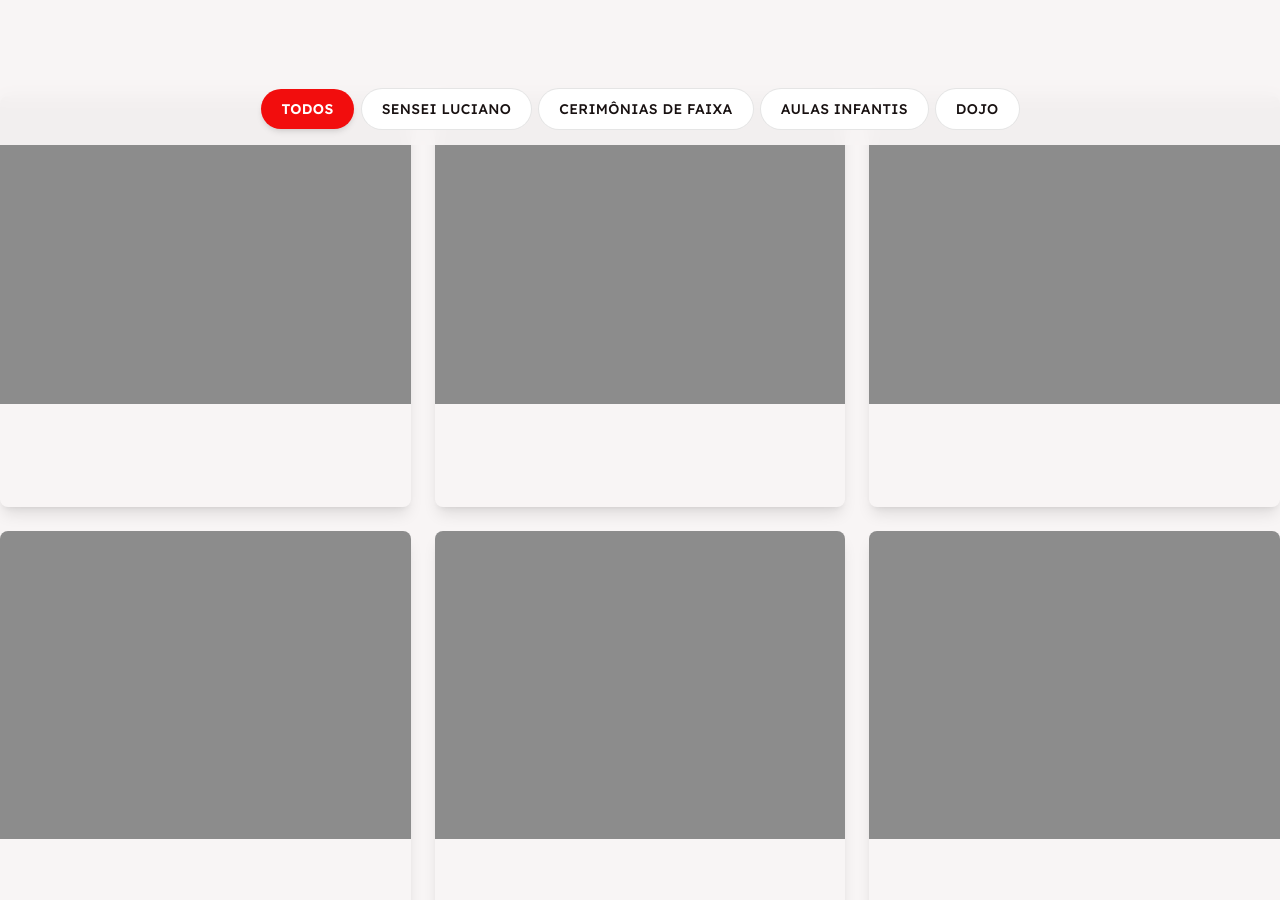
Scenario: GalleryMasonryGrid › after clicking Aulas Infantis, only items with that category are visible
Click the button with aria-label "mostrar aulas infantis". click: (844,109)
box: [761,89,928,129]
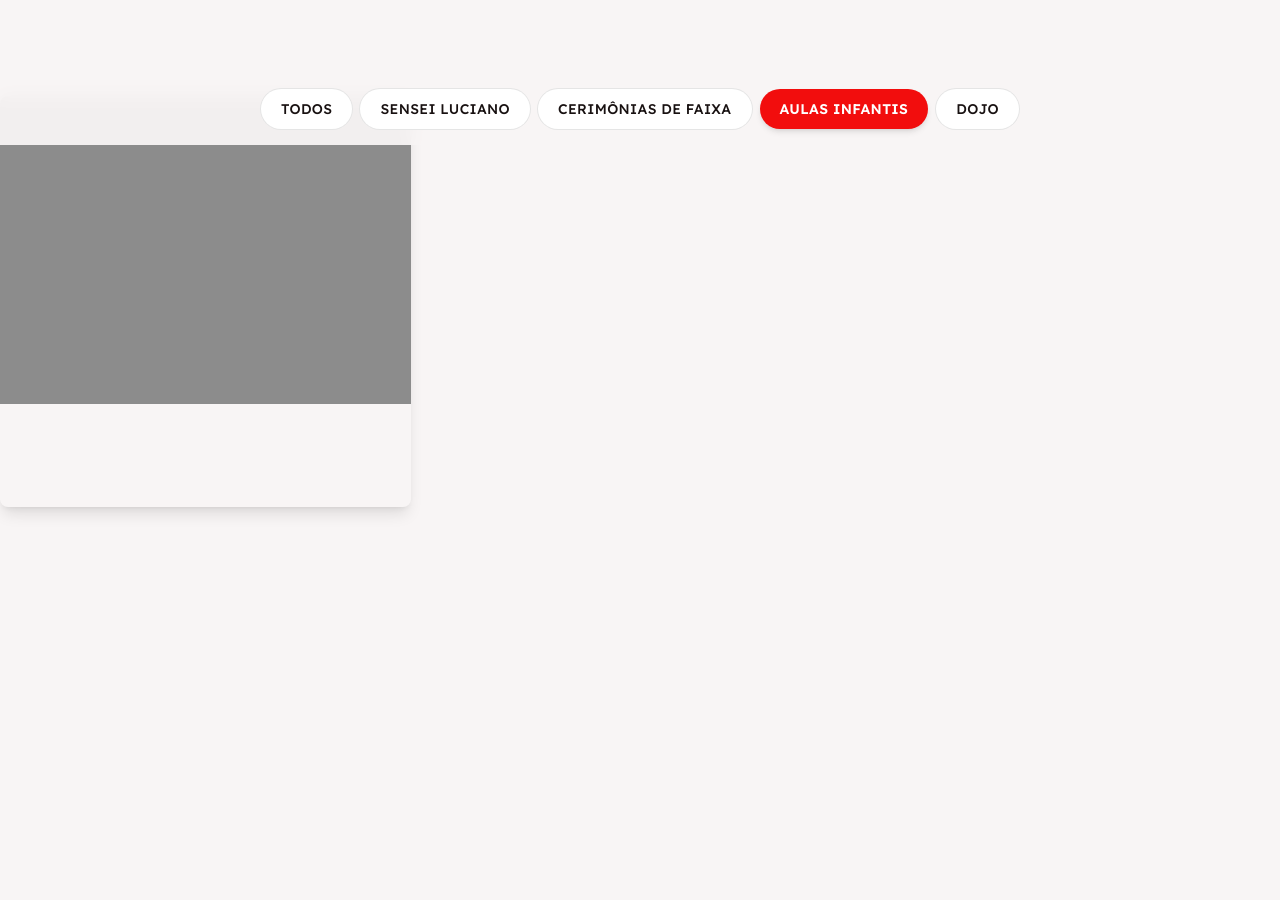
Check: the picture with alt text "Crianças em aula de karate" is shown, box [0,96,411,404]
Check: the number of elements with class "masonry-item" is 1, box [0,96,411,507]
